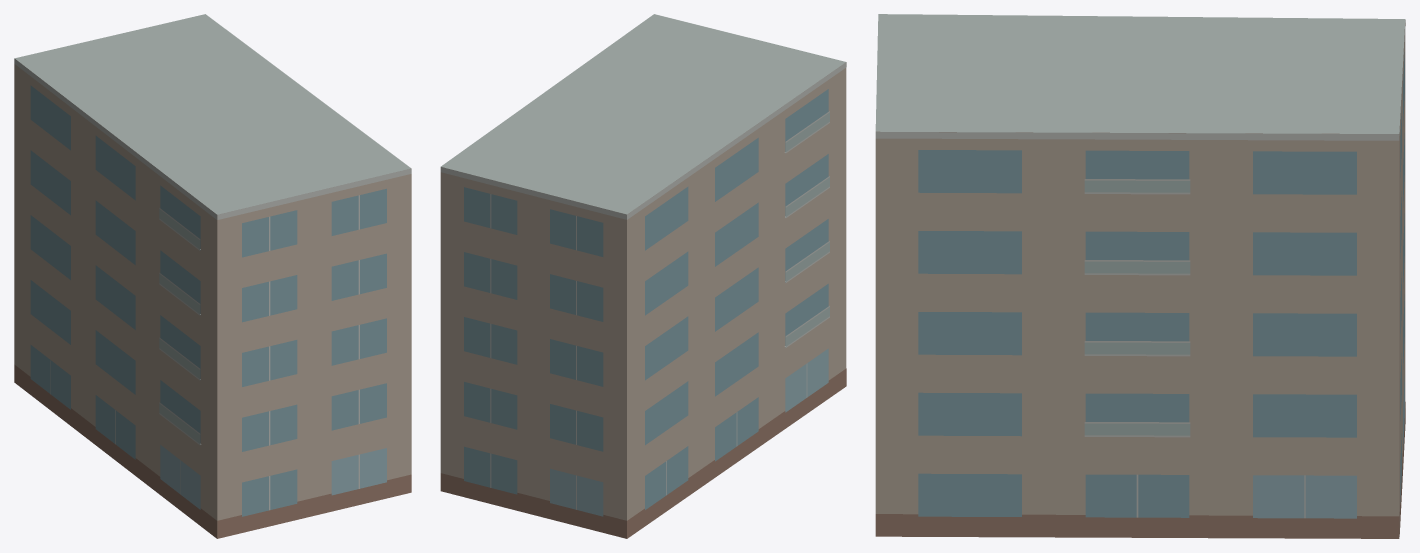
The model's file is survey-upis-32729194.glb.
The picture shows the model from 3 angles, left to right: view 1: azimuth 30°, elevation 25°; view 2: azimuth 150°, elevation 25°; view 3: azimuth 270°, elevation 25°; orthographic projection. The views are drawn at different scales.
Visible parts, largest first — view 1: survey-upis-32729194.tmp; view 2: survey-upis-32729194.tmp; view 3: survey-upis-32729194.tmp.
Part boxes in pixels (left/top/right/bottom): survey-upis-32729194.tmp: left=14, top=14, right=411, bottom=538; survey-upis-32729194.tmp: left=440, top=14, right=846, bottom=538; survey-upis-32729194.tmp: left=875, top=14, right=1405, bottom=538.
Size of the model in its own units: 9.3 by 14.6 by 17.33.
